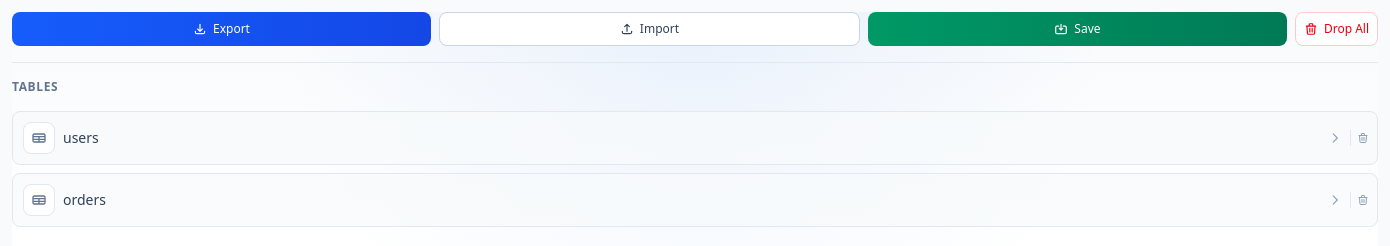
Test case: TableList › destructive operations › cancels per-table delete confirmation
Click the button named "Delete users table".
click(1363, 138)  # box [1355, 130, 1371, 146]
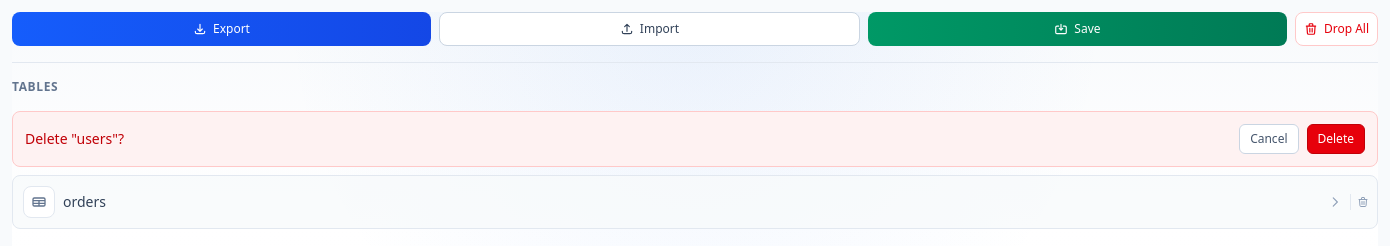
expect the text "Delete \"users\"?" is shown: met, box [25, 129, 124, 148]
Click the button "Cancel".
click(1269, 139)  # box [1239, 124, 1298, 154]
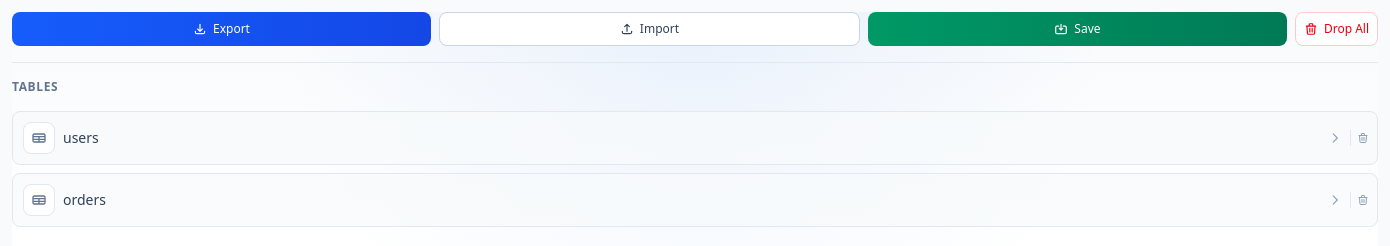
expect the text "Delete \"users\"?" is gone: met
